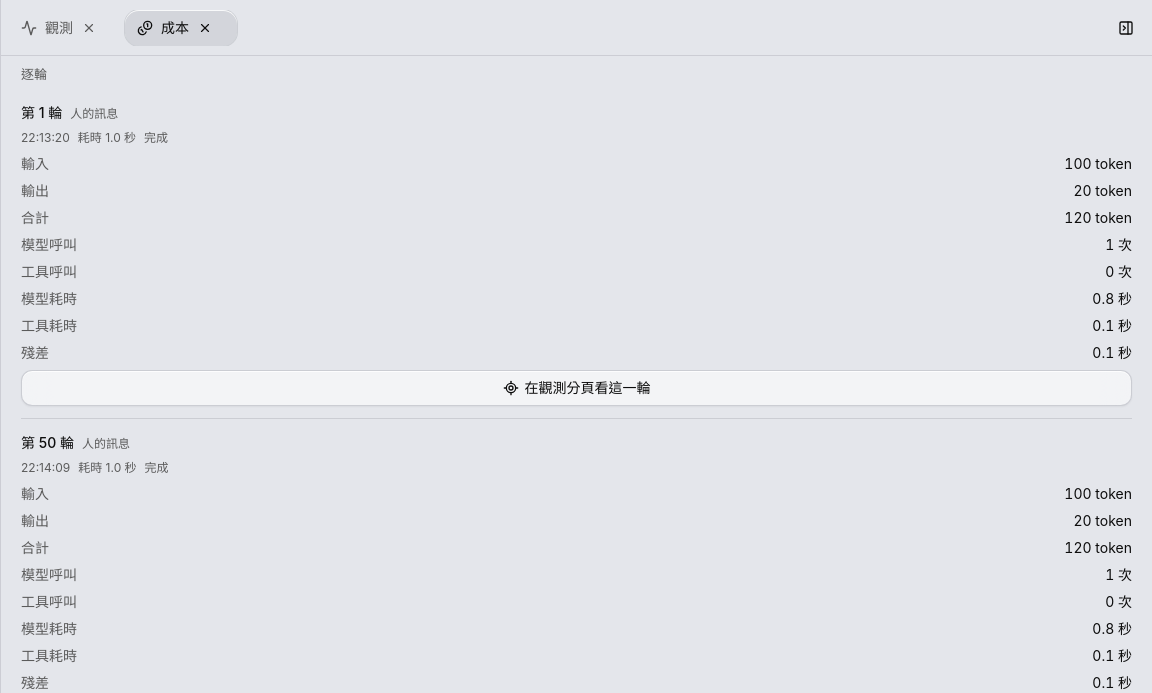
Test case: 成本分頁 →「在觀測分頁看這一輪」 › 一輪只剩摘要（在 digests 裡）：展開摘要區塊、展到那一頁、捲到那一列並放焦點
(page scrolled)
Click the button "在觀測分頁看這一輪" below "22:13:20": {"x": 576, "y": 388} [21,370,1132,406]
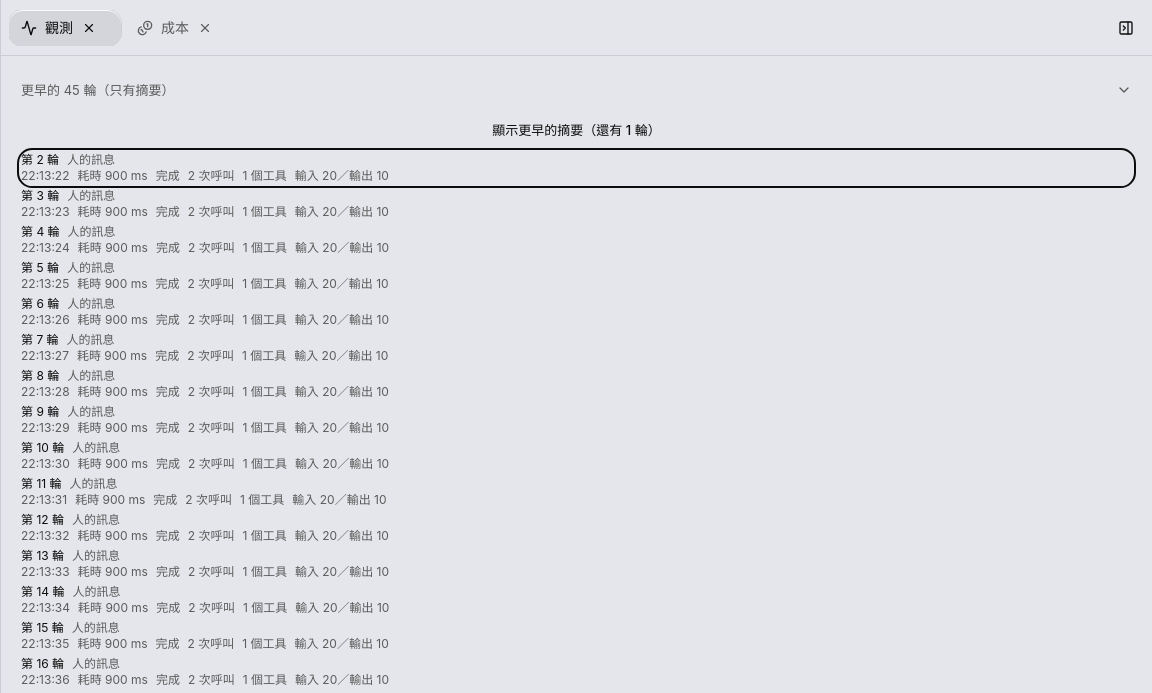
Expected: the list item that starts with "人的訊息" is shown, [21,152,389,183]
